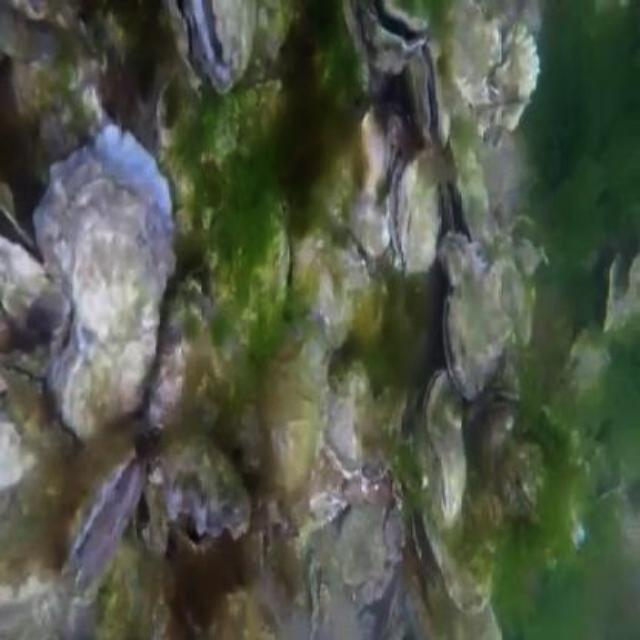Oyster-Closed: (441, 257, 523, 405), (149, 438, 250, 538), (323, 358, 391, 481), (422, 367, 468, 521), (448, 0, 499, 107), (491, 23, 540, 103), (566, 329, 610, 401), (170, 0, 201, 91), (348, 197, 388, 252), (440, 237, 483, 286)
Oyster-Open: (34, 127, 176, 443), (409, 424, 496, 625), (61, 442, 140, 594), (389, 151, 441, 274), (359, 0, 430, 76), (0, 0, 82, 64), (190, 0, 242, 75), (404, 44, 442, 146), (604, 234, 638, 331), (441, 170, 472, 240), (486, 387, 520, 416)
